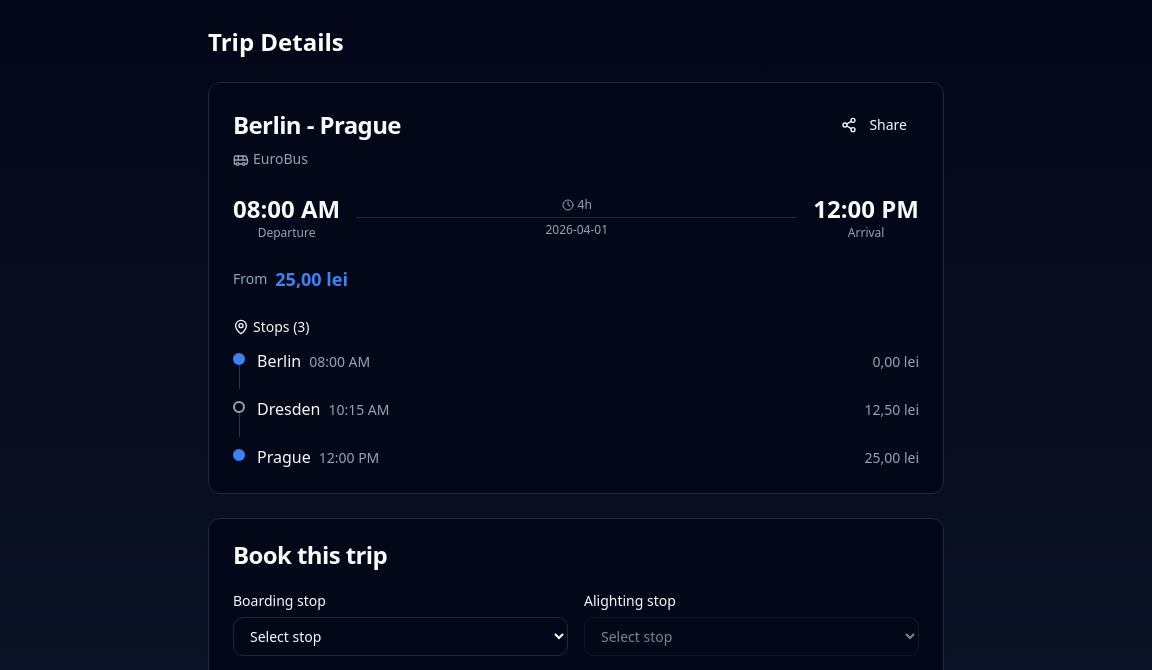
Test case: TripDetailPage › booking flow › computes and displays segment price
Step 1. Select "Berlin" in the dropdown named "Select boarding stop" → [400, 636], box x1=233 y1=617 x2=568 y2=656
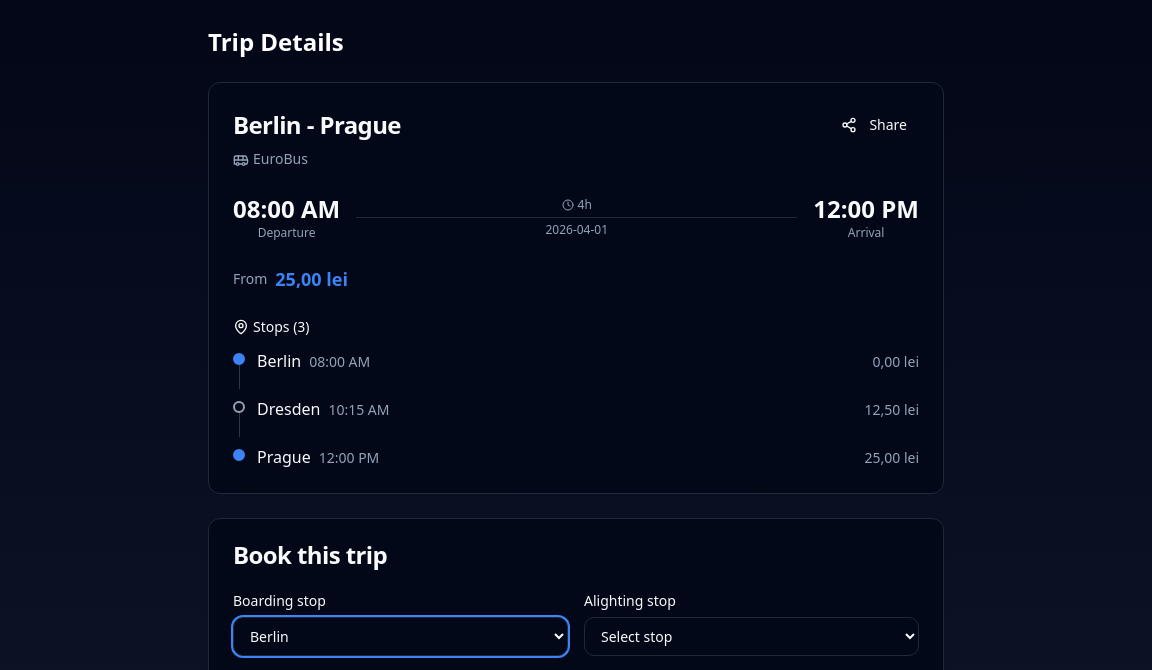
Step 2. Select "Prague" in the dropdown named "Select alighting stop" → [752, 636], box x1=584 y1=617 x2=919 y2=656
(page scrolled)
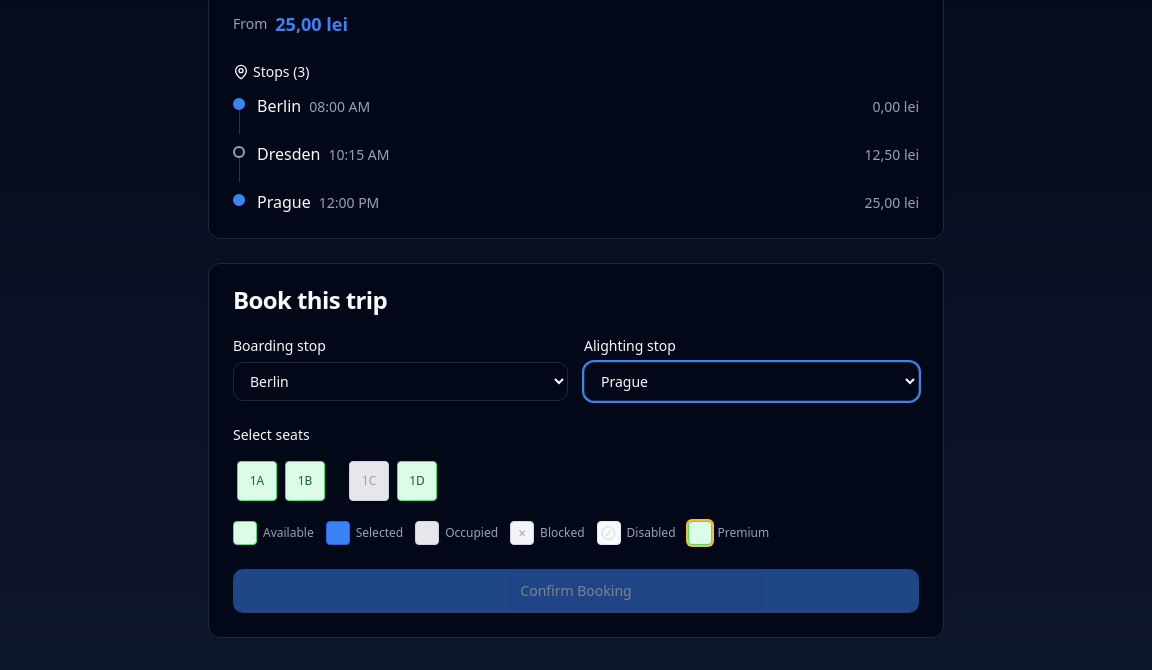
Step 3. Click the cell named "Seat 1A" → [257, 481], box x1=237 y1=461 x2=277 y2=501
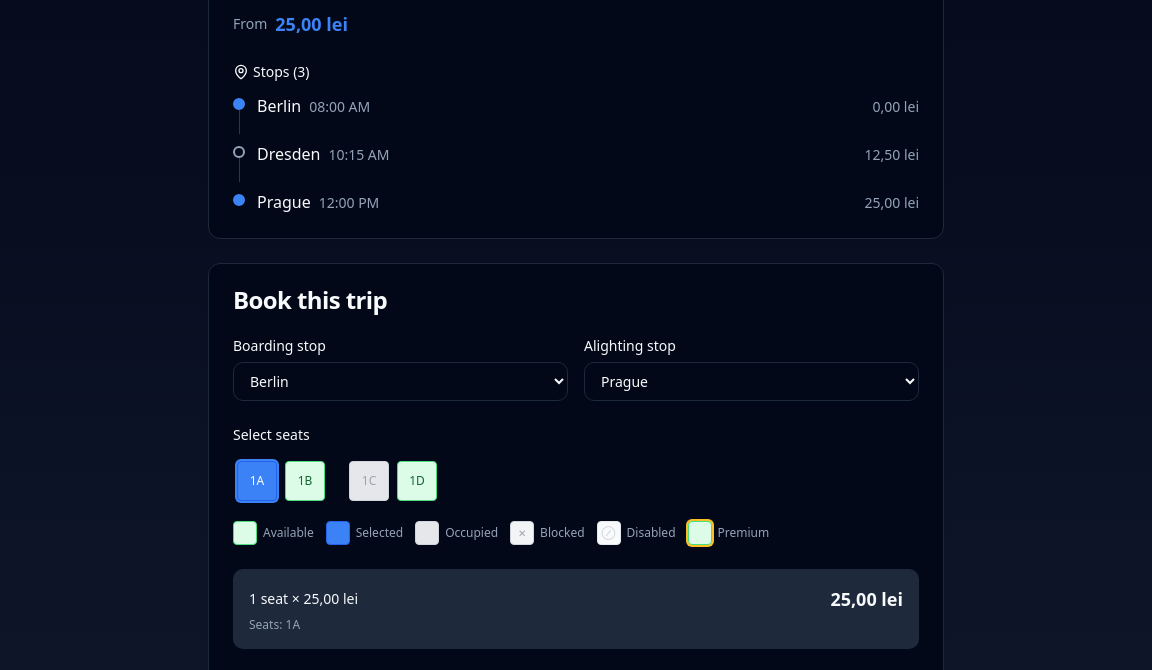
expect the text "1 seat × 25,00 lei" is shown: met, box x1=249 y1=589 x2=358 y2=609
expect the element named "Price summary" is shown: met, box x1=233 y1=569 x2=919 y2=649
